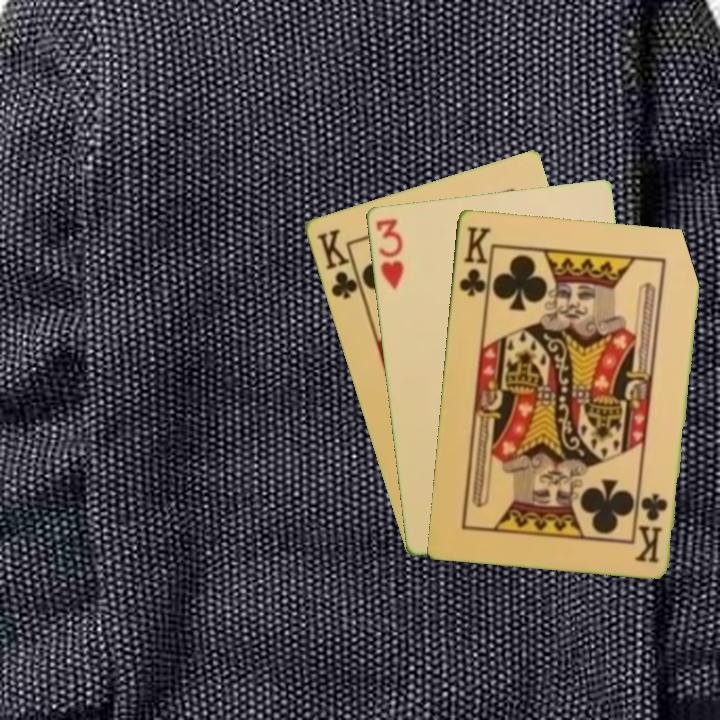3h: (372, 214, 406, 292)
Kc: (312, 225, 365, 302), (455, 222, 493, 305), (635, 489, 670, 566)
